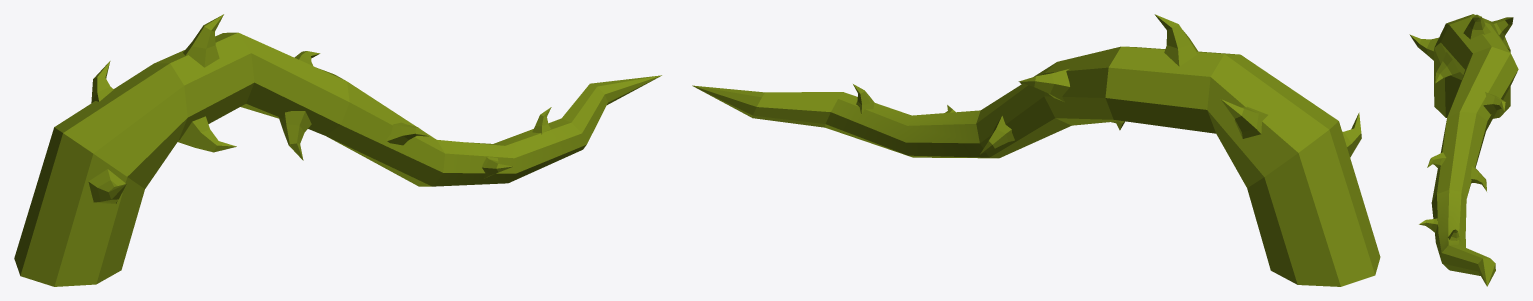
Rendered from Spikes_02.FBX.
3 views of the same model, side by side, from view 1: azimuth 30°, elevation 25°; view 2: azimuth 150°, elevation 25°; view 3: azimuth 270°, elevation 25° (orthographic). The views are drawn at different scales.
Visible parts, largest first — view 1: Spikes_02; view 2: Spikes_02; view 3: Spikes_02.
Part boxes in pixels (bbox=[...]): Spikes_02: bbox=[14, 14, 661, 286]; Spikes_02: bbox=[692, 14, 1380, 286]; Spikes_02: bbox=[1409, 14, 1518, 286].
Bounding box in the file's own units: 111 × 34.93 × 23.32.
